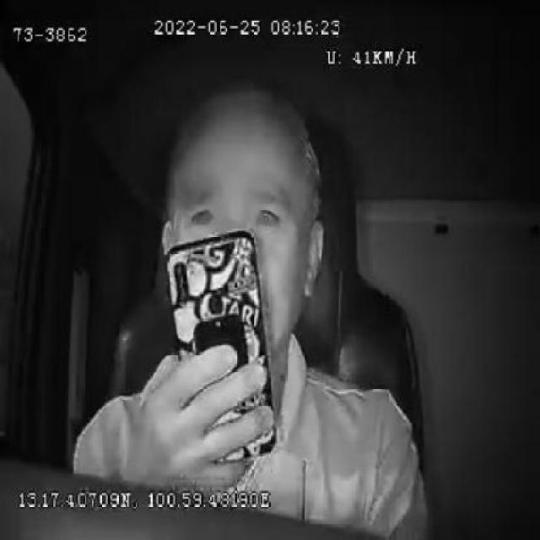phone: (159, 230, 277, 466)
